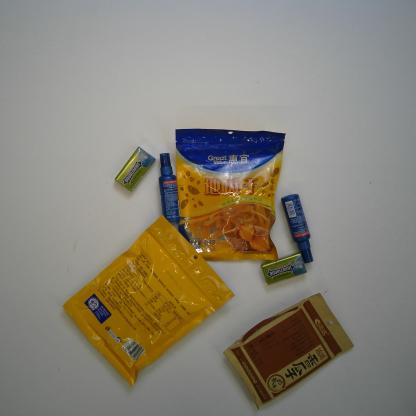Dried Food: (222, 292, 356, 412)
Dried Fruit: (61, 214, 236, 388), (174, 127, 288, 262)
Gum: (115, 146, 156, 191), (260, 251, 308, 286)
Personal Hygiene: (280, 193, 314, 264), (158, 152, 181, 223)
